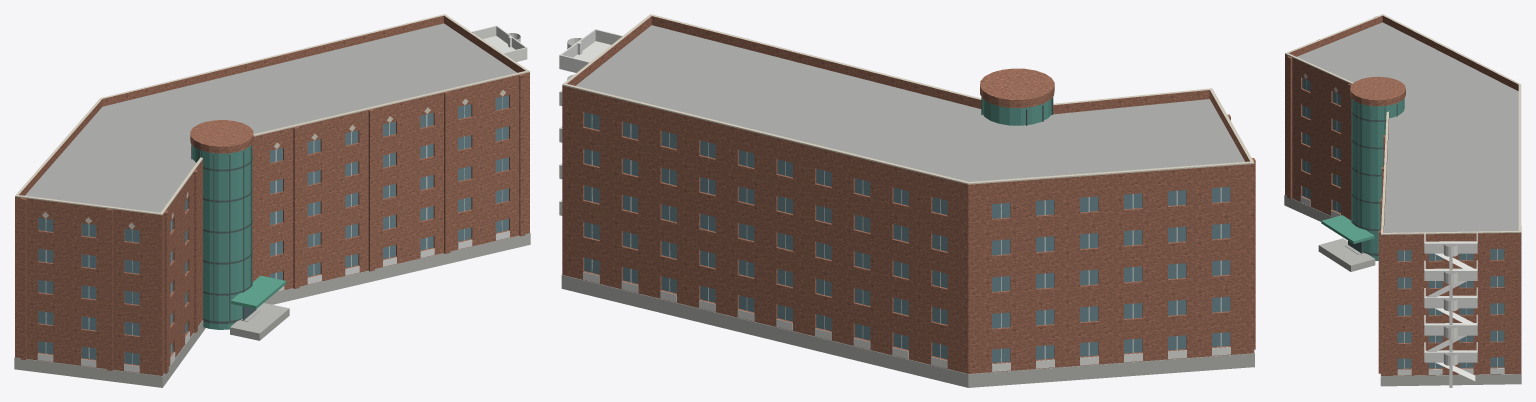
The picture shows the model from 3 angles, left to right: view 1: azimuth 30°, elevation 25°; view 2: azimuth 150°, elevation 25°; view 3: azimuth 270°, elevation 25°; orthographic projection. The views are drawn at different scales.
Parts seen in each view (by area): view 1: N18 red brick, N18 grey roof, N18 blue grey glass, N18 green core glass, N18 granite base, N18 light stone coping and diamonds, N18 dark core mullions, N18 white spandrel panels, N18 white window frames, N18 green entrance canopy, N18 fire stair balustrade pole; view 2: N18 red brick, N18 grey roof, N18 blue grey glass, N18 granite base, N18 light stone coping and diamonds, N18 white spandrel panels, N18 white window frames, N18 green core glass, N18 fire stair balustrade pole, N18 white concrete fire stair; view 3: N18 red brick, N18 grey roof, N18 green core glass, N18 blue grey glass, N18 granite base, N18 white concrete fire stair, N18 fire stair balustrade pole, N18 light stone coping and diamonds, N18 dark core mullions, N18 green entrance canopy, N18 white spandrel panels, N18 white window frames.
Boxes of the visible parts, box(x1,y1,x2,y2) form: N18 red brick: box(15, 15, 529, 375); N18 grey roof: box(25, 23, 516, 212); N18 blue grey glass: box(38, 95, 508, 365); N18 green core glass: box(191, 144, 252, 329); N18 granite base: box(14, 233, 530, 387); N18 light stone coping and diamonds: box(15, 14, 529, 229); N18 dark core mullions: box(191, 144, 252, 323); N18 white spandrel panels: box(37, 231, 509, 372); N18 white window frames: box(45, 97, 502, 364); N18 green entrance canopy: box(231, 275, 286, 308); N18 fire stair balustrade pole: box(472, 25, 527, 60); N18 red brick: box(562, 16, 1255, 373); N18 grey roof: box(576, 25, 1244, 181); N18 blue grey glass: box(584, 112, 1230, 362); N18 granite base: box(561, 274, 1254, 387); N18 light stone coping and diamonds: box(562, 14, 1254, 184); N18 white spandrel panels: box(583, 272, 1230, 371); N18 white window frames: box(591, 114, 1221, 362); N18 green core glass: box(981, 97, 1052, 125); N18 fire stair balustrade pole: box(559, 29, 623, 213); N18 white concrete fire stair: box(559, 38, 610, 215); N18 red brick: box(1285, 15, 1521, 375); N18 grey roof: box(1297, 22, 1518, 232); N18 green core glass: box(1351, 98, 1404, 260); N18 blue grey glass: box(1302, 78, 1504, 368); N18 granite base: box(1284, 195, 1521, 386); N18 white concrete fire stair: box(1424, 241, 1477, 380); N18 fire stair balustrade pole: box(1424, 233, 1477, 387); N18 light stone coping and diamonds: box(1285, 14, 1521, 234); N18 dark core mullions: box(1351, 99, 1397, 255); N18 green entrance canopy: box(1321, 215, 1374, 243); N18 white spandrel panels: box(1300, 196, 1504, 375); N18 white window frames: box(1306, 80, 1497, 368).
Size of the model in its own units: 66.01 by 21.8 by 28.41.
Materials: 13 (1 with a texture image).
